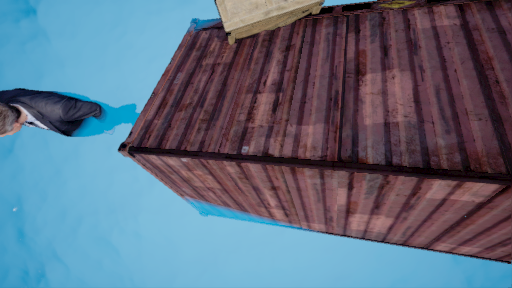person: (2, 80, 119, 143)
